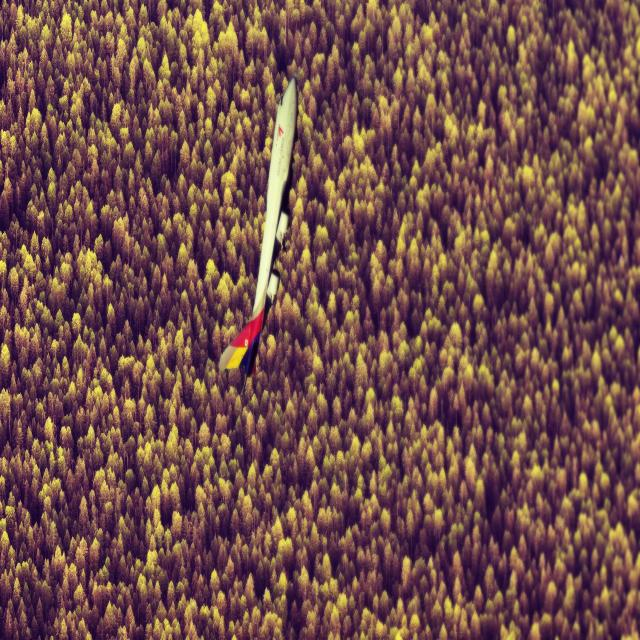airplane: (218, 74, 298, 394)
